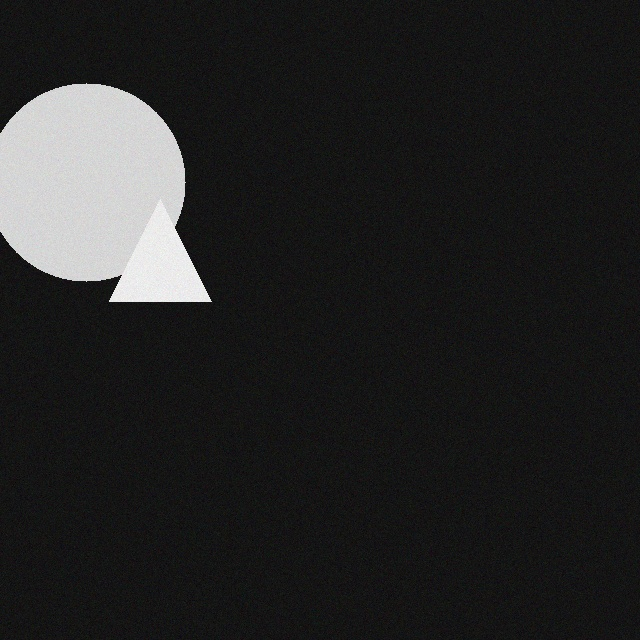circle: (2, 81, 200, 279)
triangle: (124, 197, 226, 299)
